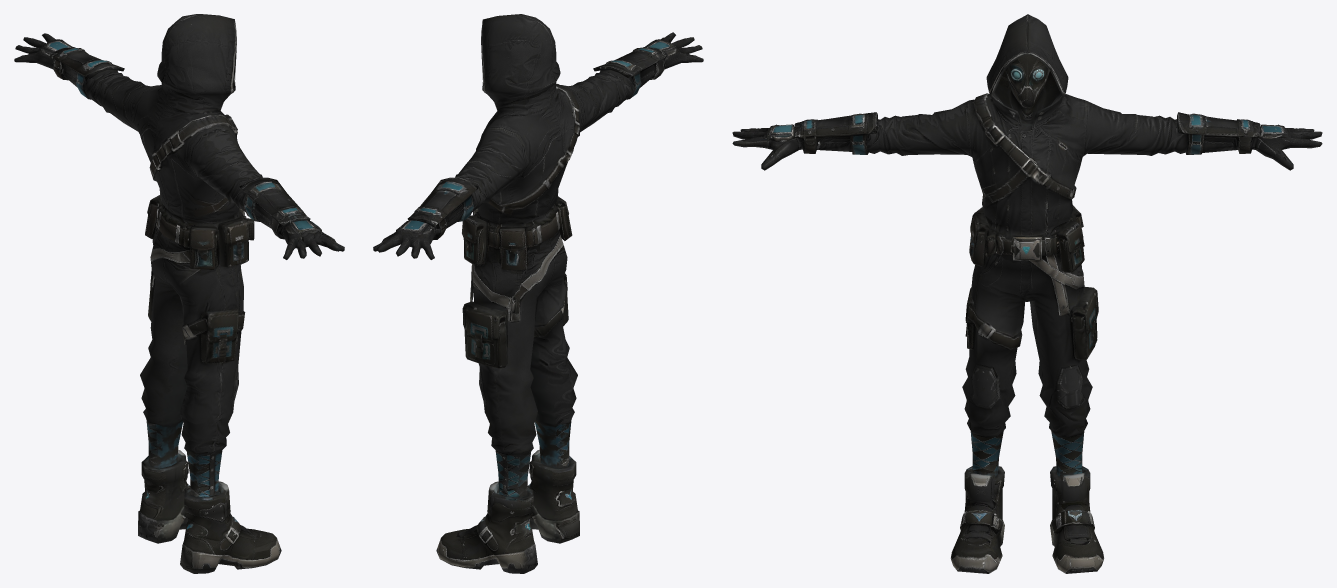
Rendered from PlayerModel.fbx.
3 views of the same model, side by side, from view 1: azimuth 30°, elevation 25°; view 2: azimuth 150°, elevation 25°; view 3: azimuth 270°, elevation 25° (orthographic).
Visible parts, largest first — view 1: tripo_node_86d81dcf; view 2: tripo_node_86d81dcf; view 3: tripo_node_86d81dcf.
Boxes of the visible parts, x1,y1,x2,y2 form: tripo_node_86d81dcf: (14, 14, 344, 573); tripo_node_86d81dcf: (373, 14, 703, 573); tripo_node_86d81dcf: (732, 14, 1322, 573).
Bounding box in the file's own units: 0.2012 × 0.9902 × 0.998.
